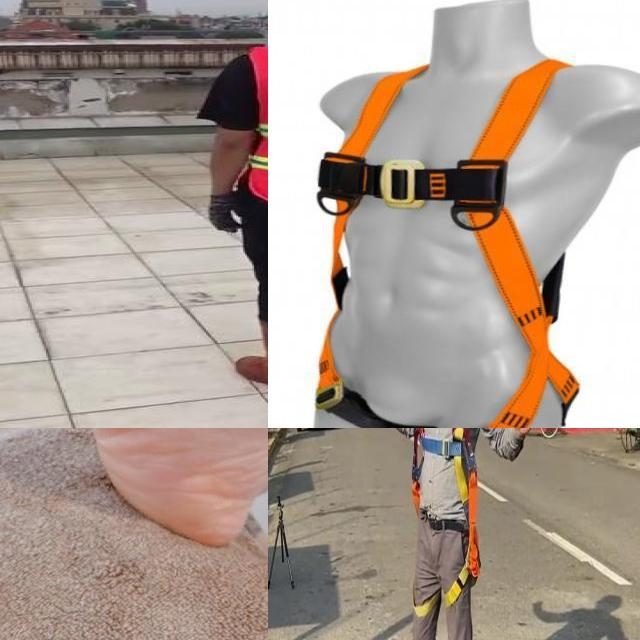Barefoots: (12, 428, 268, 548)
Harness: (316, 59, 580, 428), (413, 428, 481, 606)
boots: (234, 316, 268, 393)
hand_glove: (204, 192, 247, 233)
person: (190, 0, 268, 397)
